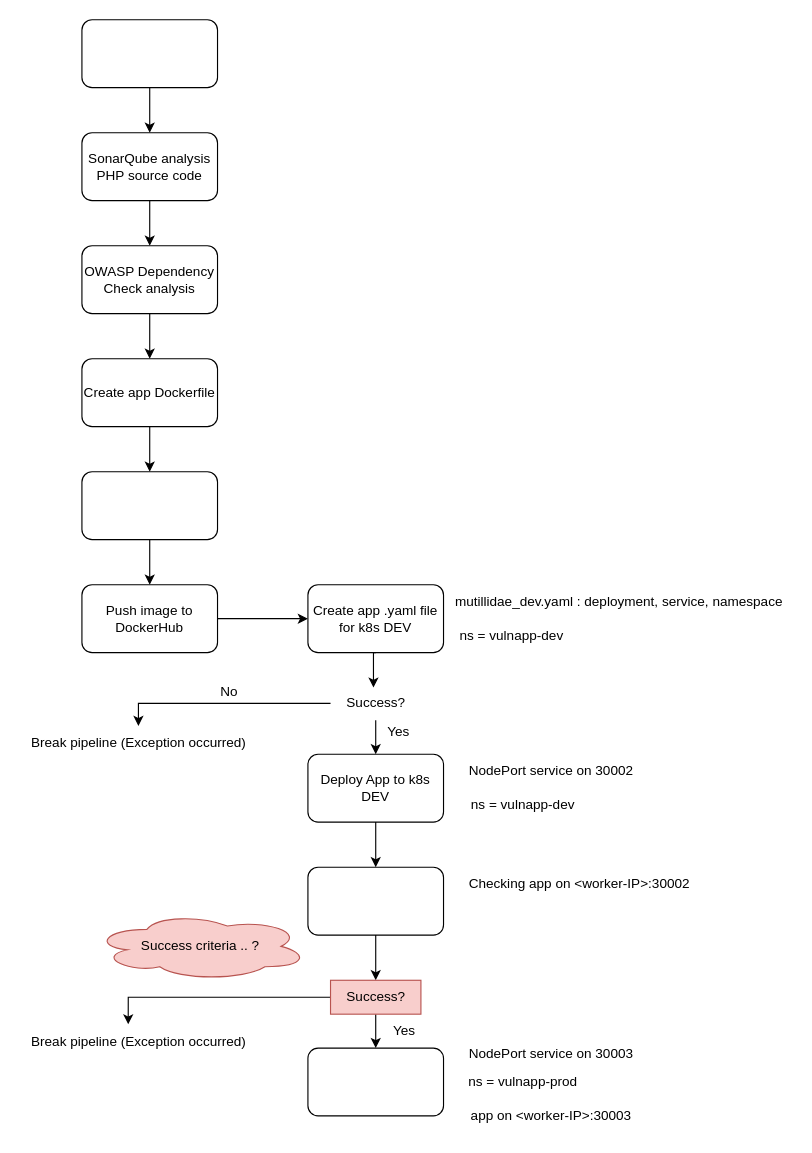
The diagram is 812 pixels wide and 1153 high, and some of its shapes have lost their labels. The centre of each missing label's shape, as x and y in pixels:
Build docker image: [149,505]
Checkout Source: [149,53]
Deploy App to k8s PROD: [375,1081]
OWASP ZAP Checking: [375,900]
